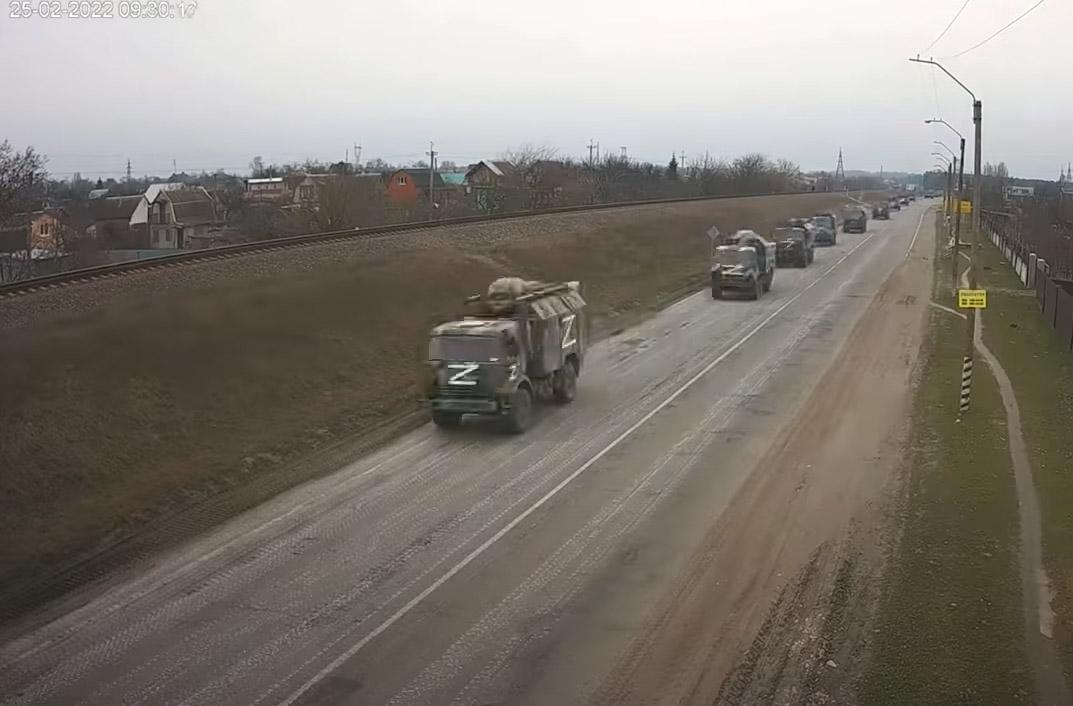truck: (422, 279, 585, 437), (713, 238, 770, 307), (770, 218, 816, 271), (814, 205, 840, 250), (842, 201, 868, 237), (870, 196, 891, 223)
